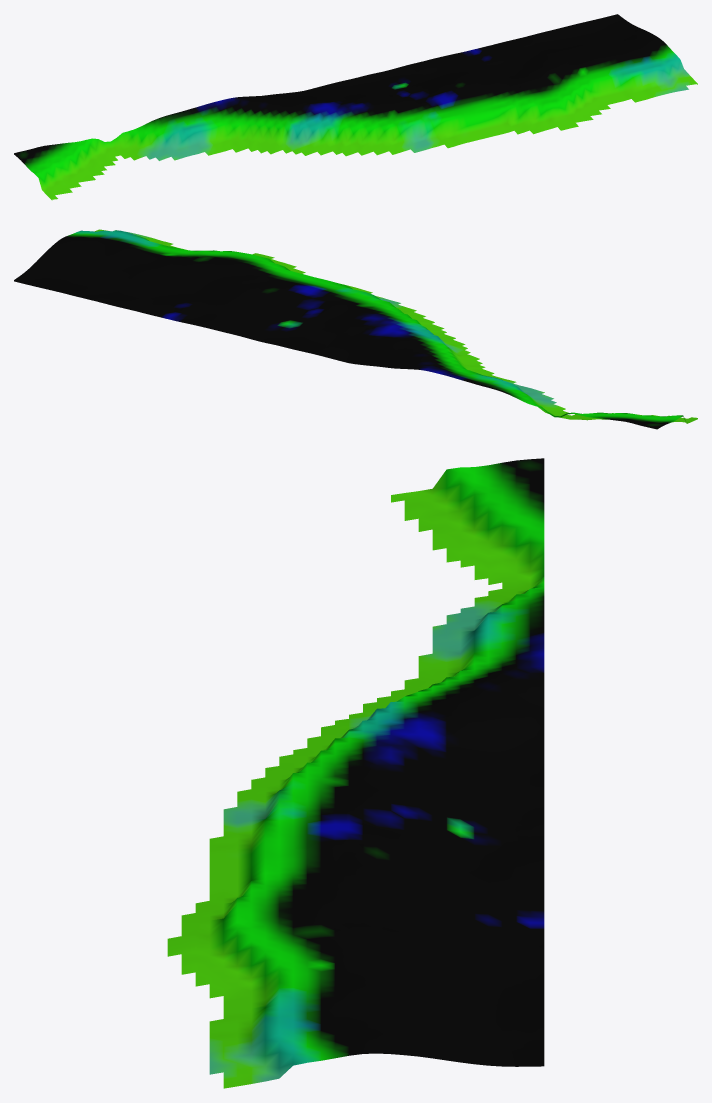
Rendered from coast_-1600_-800_800.glb.
The picture shows the model from 3 angles, top to bottom: view 1: azimuth 30°, elevation 25°; view 2: azimuth 150°, elevation 25°; view 3: azimuth 270°, elevation 25°; orthographic projection. The views are drawn at different scales.
Parts seen in each view (by area): view 1: terrain; view 2: terrain; view 3: terrain.
Part boxes in pixels (bbox=[...]): terrain: bbox=[14, 14, 697, 200]; terrain: bbox=[14, 229, 697, 429]; terrain: bbox=[167, 458, 544, 1088].
Size of the model in its own units: 800 by 28.92 by 216.
